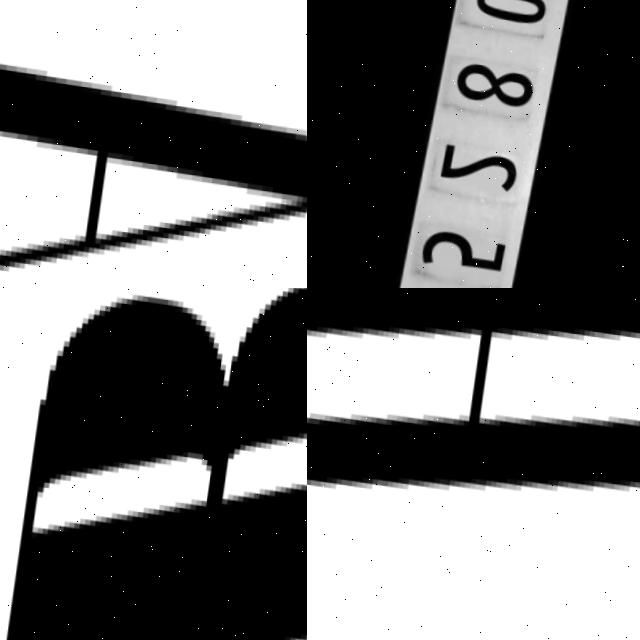0: (474, 0, 558, 32)
2: (443, 133, 534, 200)
5: (424, 215, 523, 287)
8: (455, 49, 550, 119)
A: (0, 15, 307, 288)
B: (13, 288, 307, 640)
H: (307, 288, 640, 480)
